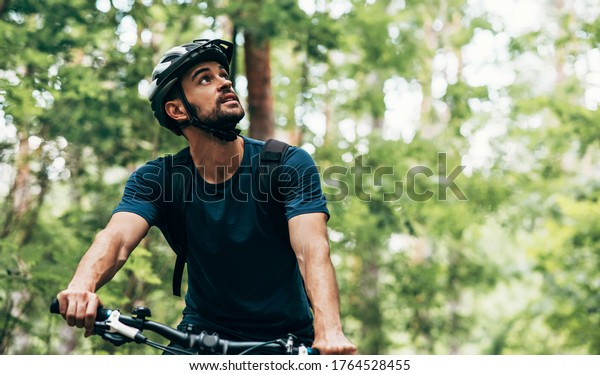helmet: (148, 39, 245, 130)
